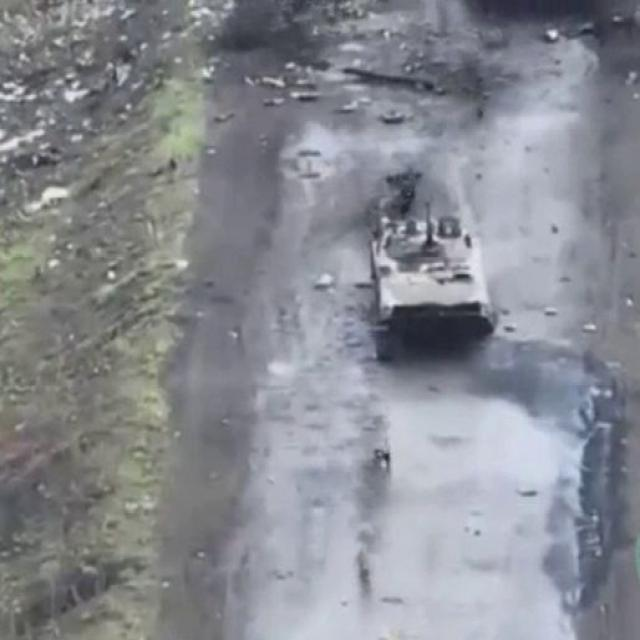AIFV: (374, 193, 497, 345)
